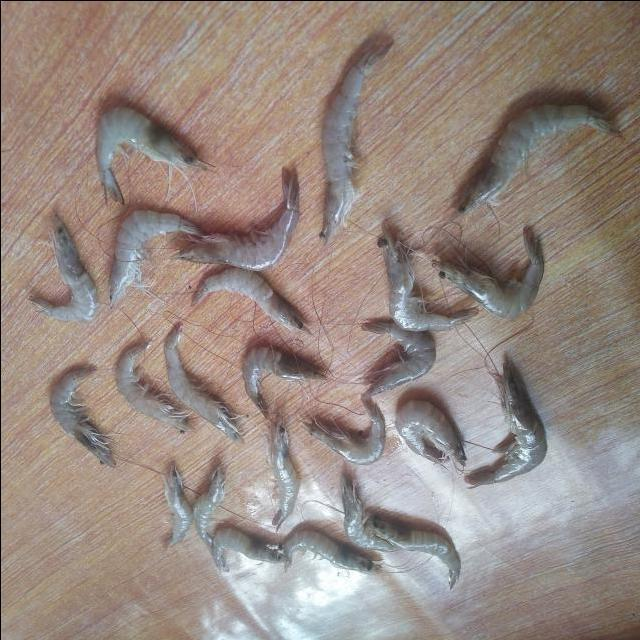shrimp: (451, 103, 621, 218), (319, 40, 392, 246), (171, 169, 298, 270), (376, 222, 477, 330), (95, 106, 206, 203), (464, 360, 547, 489), (432, 227, 544, 318), (163, 324, 243, 445), (107, 209, 200, 307), (191, 267, 311, 334), (27, 215, 97, 322), (114, 341, 192, 432), (48, 366, 114, 468), (368, 518, 460, 590), (241, 346, 325, 418), (361, 321, 435, 400), (303, 399, 385, 465), (395, 400, 466, 466), (341, 475, 398, 552), (282, 530, 378, 574), (265, 415, 299, 531), (211, 528, 287, 572), (191, 465, 224, 552), (160, 464, 192, 548)
